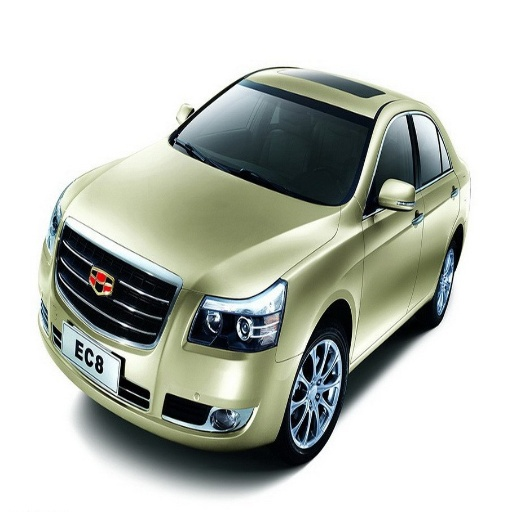front_bumper: (59, 288, 302, 450), (56, 217, 118, 301)
front_glass: (170, 81, 376, 205)
front_left_door: (357, 108, 424, 356)
